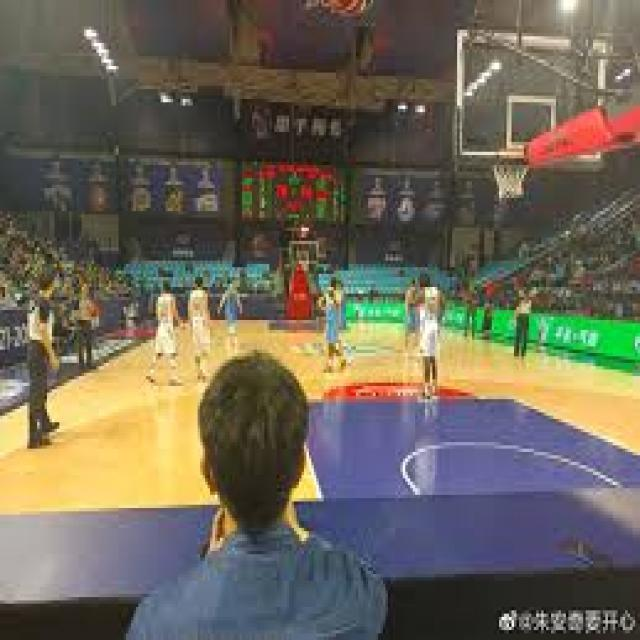rim: (84, 300, 99, 320)
